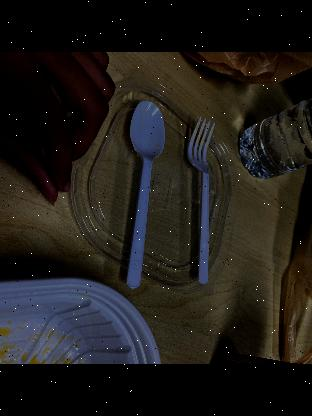Others: (113, 98, 173, 292), (178, 115, 224, 288)
